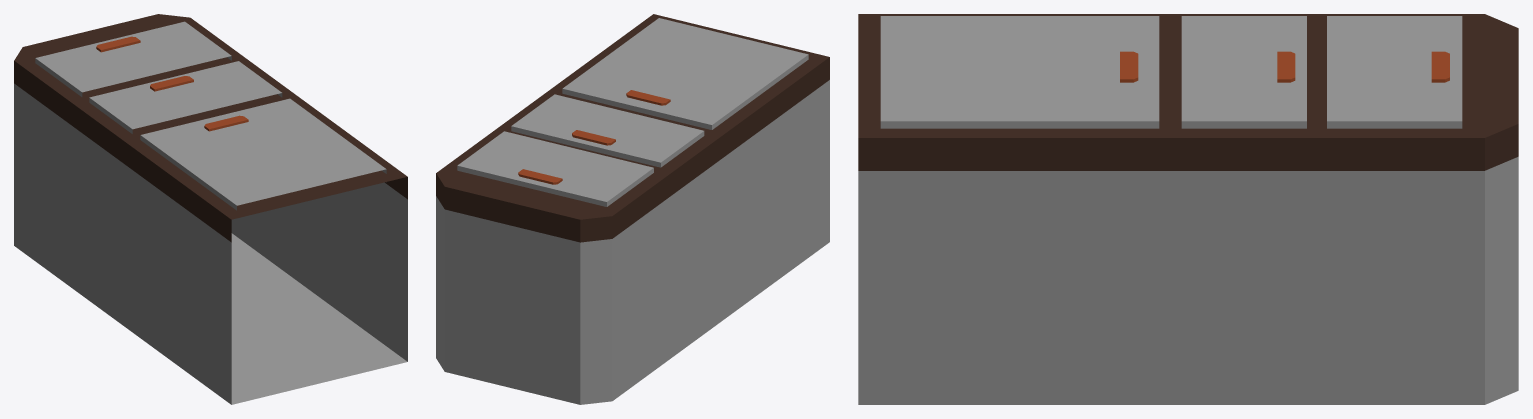
The model's file is Cabinet 06.FBX.
The picture shows the model from 3 angles, left to right: view 1: azimuth 30°, elevation 25°; view 2: azimuth 150°, elevation 25°; view 3: azimuth 270°, elevation 25°; orthographic projection. The views are drawn at different scales.
Parts seen in each view (by area): view 1: Cabinet 06; view 2: Cabinet 06; view 3: Cabinet 06.
Boxes of the visible parts, x1=… form: Cabinet 06: x1=14, y1=14, x2=407, y2=404; Cabinet 06: x1=436, y1=14, x2=829, y2=404; Cabinet 06: x1=858, y1=14, x2=1518, y2=404.
Bounding box in the file's own units: 82.75 × 86.34 × 186.
